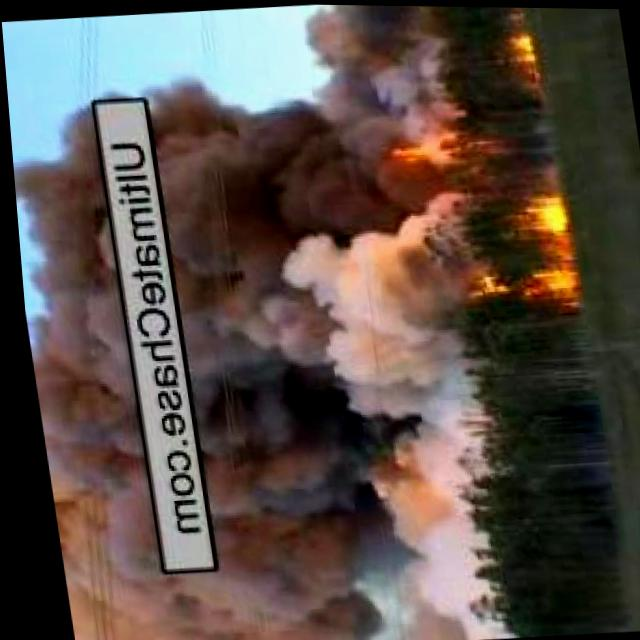helmet: (447, 196, 584, 313), (457, 196, 571, 308), (373, 136, 478, 179), (498, 29, 538, 70), (500, 35, 531, 70)
no_helmet: (141, 56, 494, 640), (6, 97, 164, 640)
